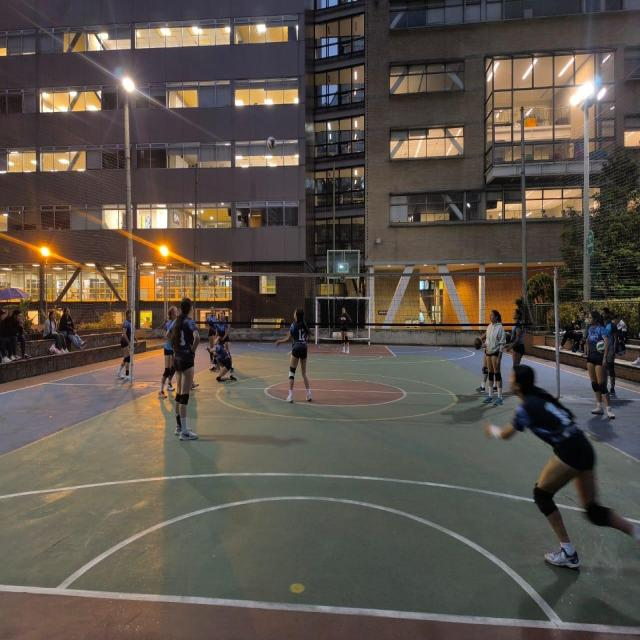volleyball: (473, 336, 483, 349), (267, 136, 276, 150), (597, 341, 606, 354)
